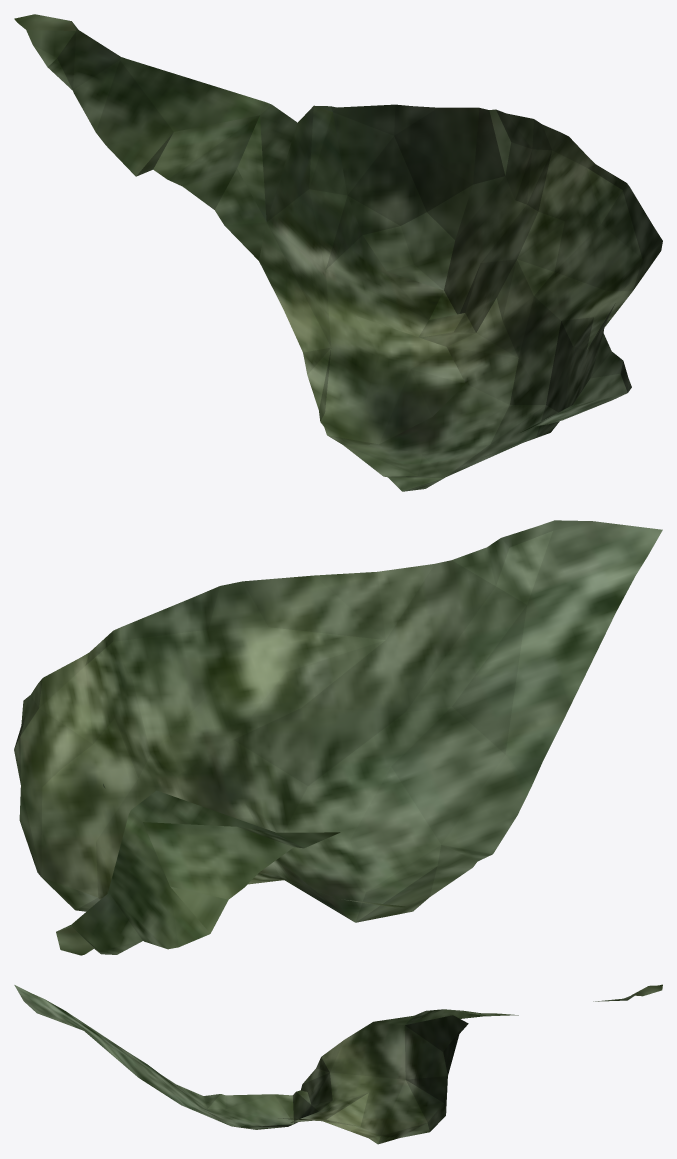
3 views of the same model, one above another, from view 1: azimuth 30°, elevation 25°; view 2: azimuth 150°, elevation 25°; view 3: azimuth 270°, elevation 25° (orthographic). The views are drawn at different scales.
Bounding box in the file's own units: 1.67 × 1.13 × 5.36.
1 material, 1 textured.
